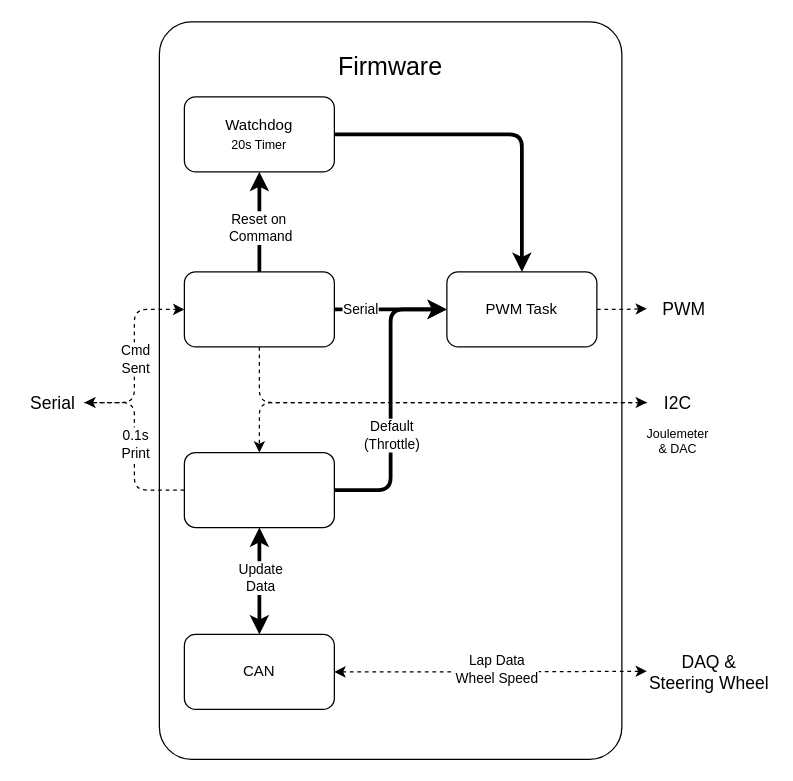
The diagram is 793 pixels wide and 781 high, and some of its shapes have lost their labels. Each missing label, with the box of its shape:
Command Task: (183, 271, 334, 347)
Sensor Read: (183, 451, 334, 528)
